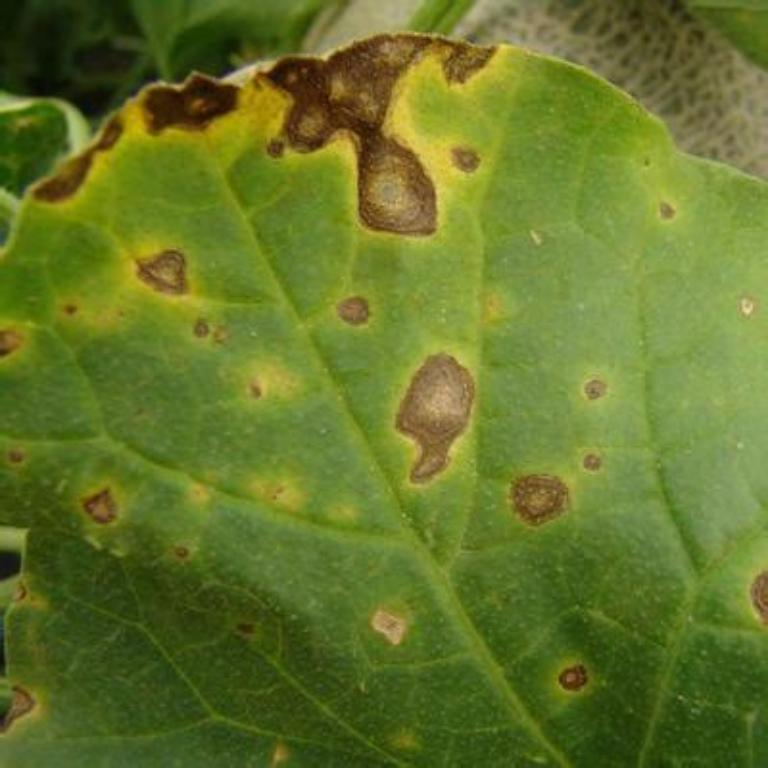blight: (17, 40, 524, 234)
